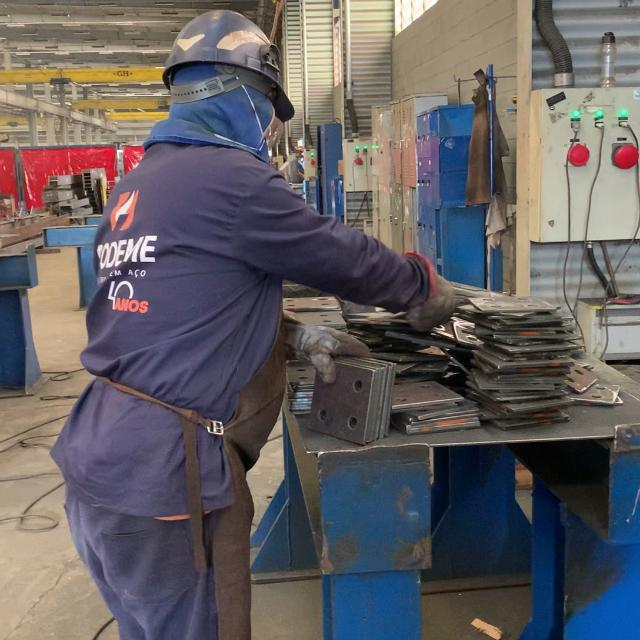glove: (287, 326, 371, 389), (408, 258, 458, 334)
helmet: (155, 8, 297, 124)
person: (48, 6, 456, 640)
